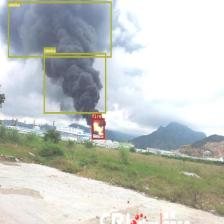fire: (92, 118, 104, 139)
smoke: (7, 1, 112, 57), (43, 53, 106, 113)
